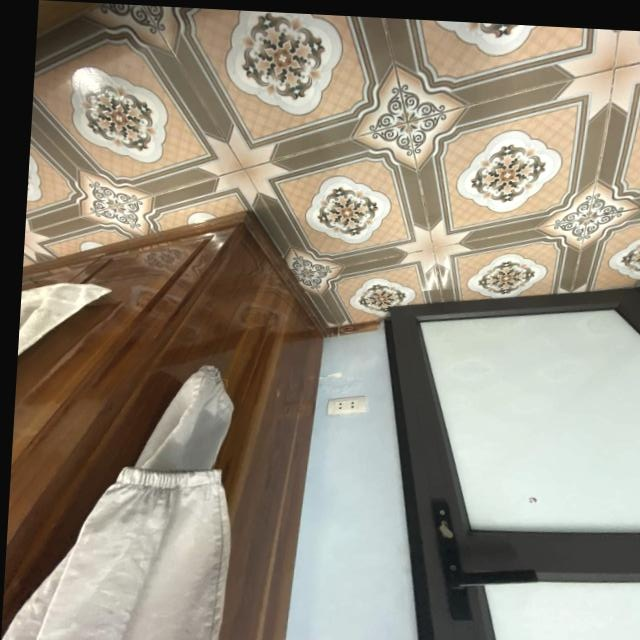outlet: (326, 394, 367, 418)
